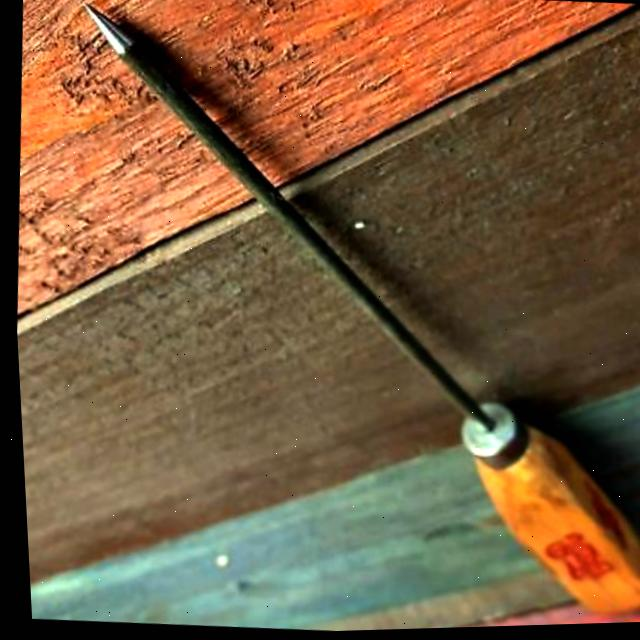ice pick: (37, 0, 640, 631)
